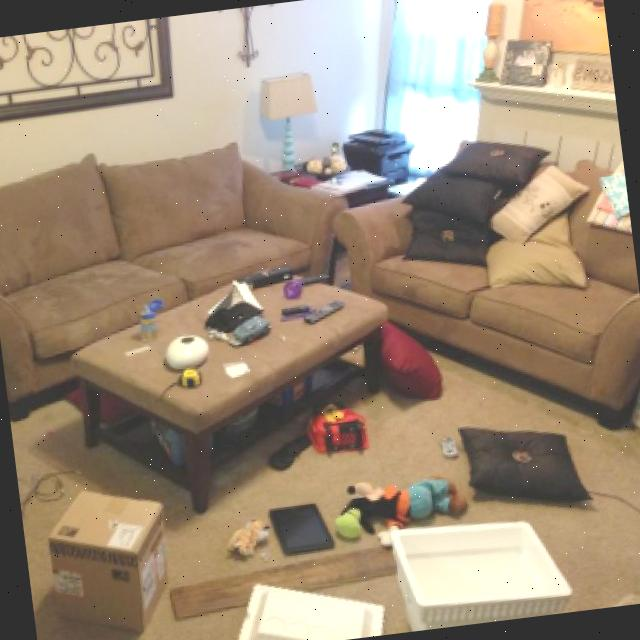mess: (192, 515, 549, 640), (318, 426, 564, 544), (147, 548, 396, 624), (260, 402, 378, 476), (202, 286, 277, 346), (204, 512, 284, 566), (18, 462, 92, 514), (269, 277, 327, 304), (222, 356, 255, 385)
messy_table: (68, 257, 383, 511)
